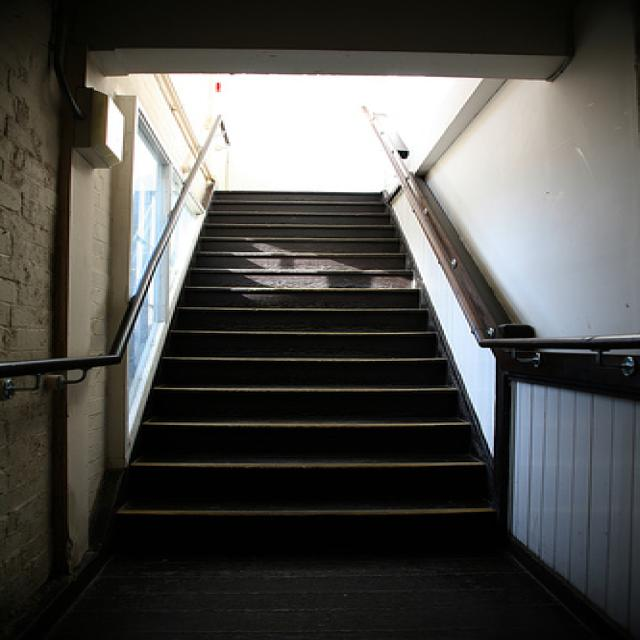upstair: (116, 192, 499, 550)
